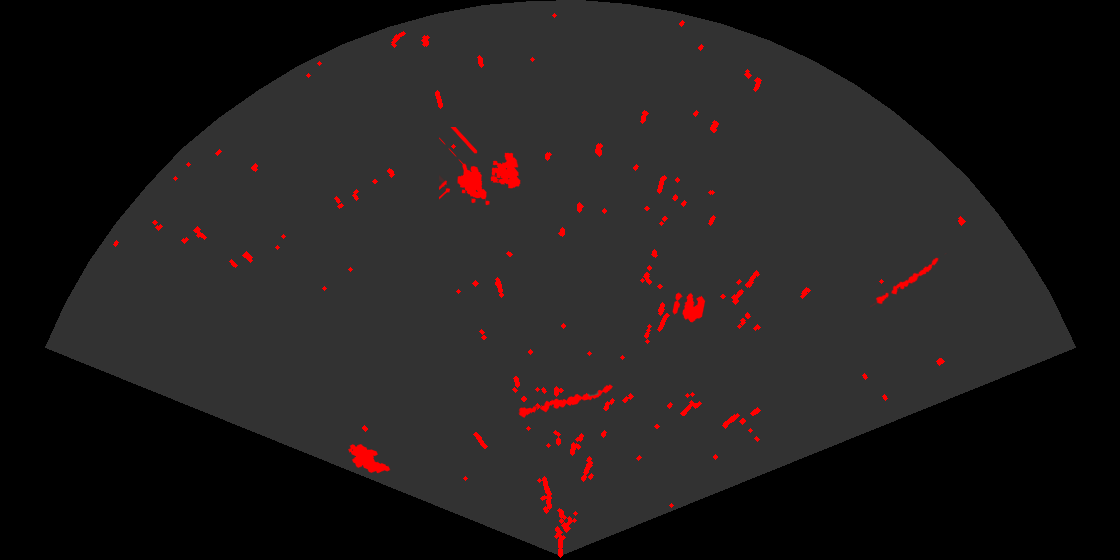AUV: (347, 443, 392, 475)
ball: (671, 291, 707, 324)
cage: (439, 127, 522, 207)
chain: (870, 253, 948, 309), (516, 383, 614, 419)
